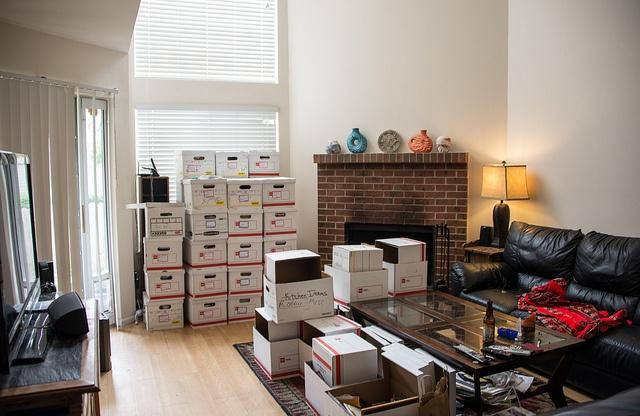AIO PC-Monitor-TV: (0, 149, 42, 379)
Meja: (347, 289, 586, 400)
